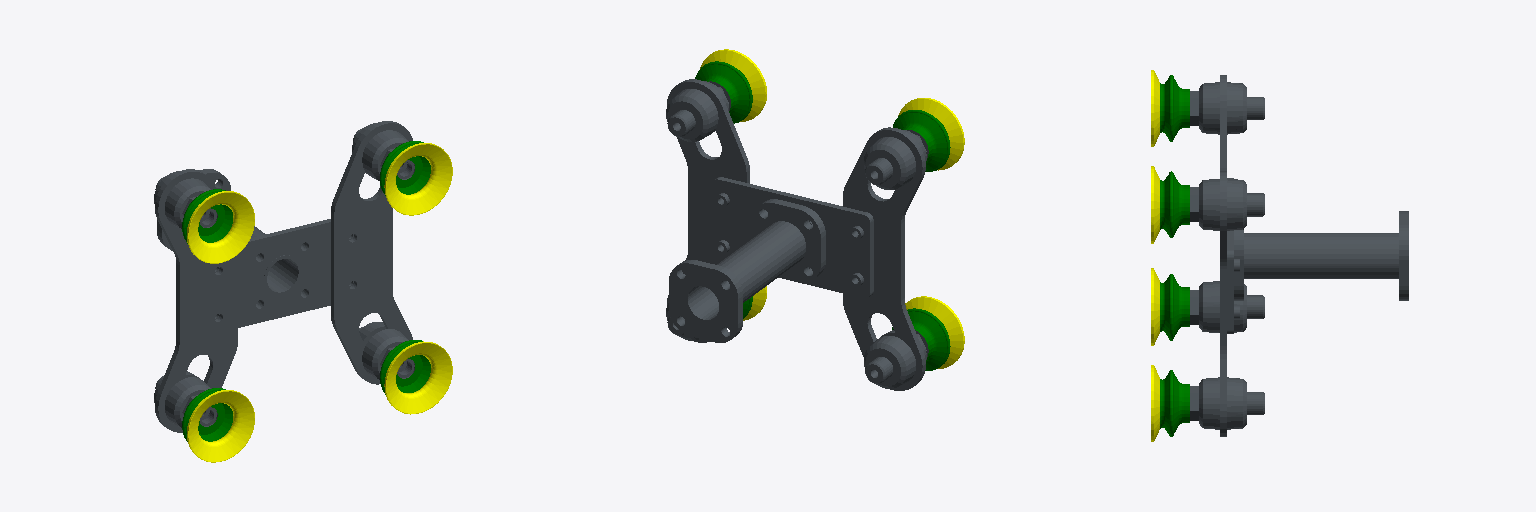
The model's file is robotiq_power_pick_45.obj.
3 renders of one model, left to right at view 1: azimuth 30°, elevation 25°; view 2: azimuth 150°, elevation 25°; view 3: azimuth 270°, elevation 25°, orthographic.
Parts seen in each view (by area): view 1: mesh82, mesh184, mesh51, mesh143, mesh102, mesh245, mesh204, mesh54, mesh83, mesh124, mesh185, mesh226; view 2: mesh181, mesh5, mesh79, mesh50, mesh283, mesh37, mesh248, mesh146, mesh207, mesh252, mesh150, mesh54 (+4 smaller); view 3: mesh50, mesh83, mesh226, mesh124, mesh185, mesh85, mesh126, mesh228, mesh61.
Part boxes in pixels (x1,y1,x2,y2): mesh82: (334, 123, 412, 384); mesh184: (158, 172, 237, 432); mesh51: (238, 222, 330, 327); mesh143: (386, 144, 451, 214); mesh102: (386, 343, 451, 413); mesh245: (189, 193, 254, 262); mesh204: (189, 391, 254, 461); mesh54: (267, 259, 298, 292); mesh83: (362, 329, 406, 379); mesh124: (362, 130, 406, 179); mesh185: (165, 377, 208, 427); mesh226: (165, 178, 208, 228); mesh181: (843, 130, 922, 390); mesh5: (712, 179, 869, 298); mesh79: (667, 82, 746, 342); mesh50: (717, 221, 805, 302); mesh283: (669, 263, 737, 342); mesh37: (751, 203, 820, 282); mesh248: (898, 99, 962, 170); mesh146: (700, 50, 765, 121); mesh207: (905, 297, 962, 368); mesh252: (894, 113, 946, 170); mesh150: (696, 64, 749, 121); mesh54: (688, 286, 718, 319); mesh50: (1244, 233, 1398, 278); mesh83: (1203, 377, 1219, 429); mesh226: (1203, 82, 1219, 134); mesh124: (1203, 179, 1219, 230); mesh185: (1203, 281, 1219, 332); mesh85: (1227, 377, 1242, 429); mesh126: (1227, 179, 1242, 230); mesh228: (1227, 82, 1242, 134); mesh61: (1220, 269, 1226, 345).
Size of the model in its own units: 0.2091 by 0.2029 by 0.1765.